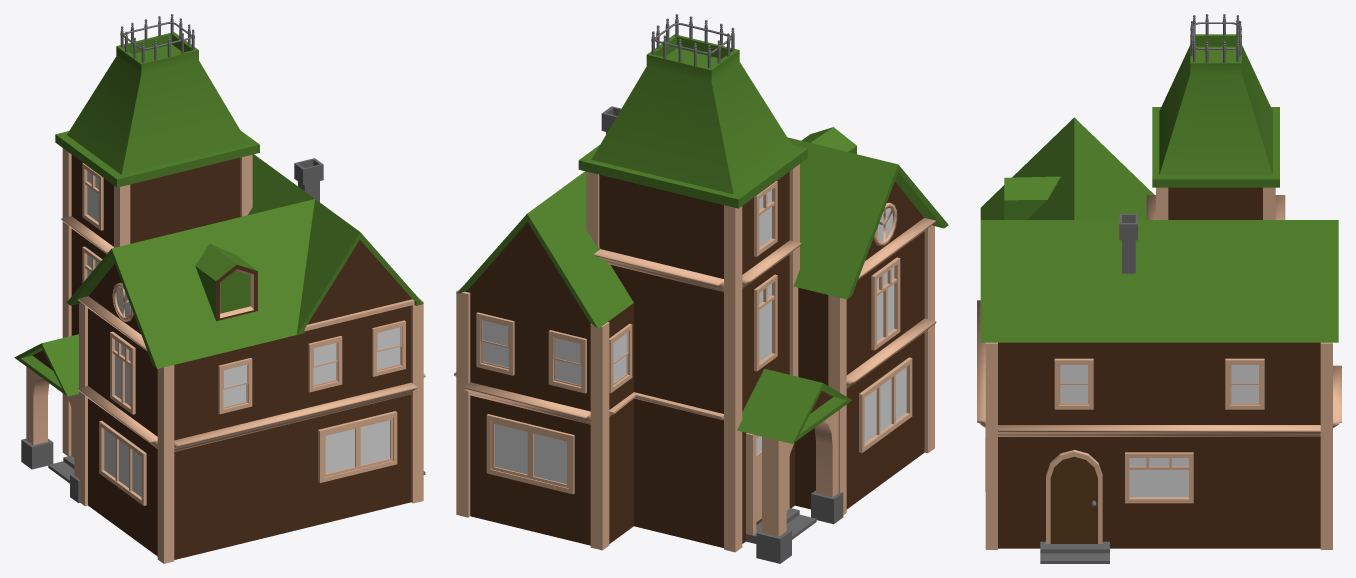
The model's file is house_mats.fbx.
3 renders of one model, left to right at view 1: azimuth 30°, elevation 25°; view 2: azimuth 150°, elevation 25°; view 3: azimuth 270°, elevation 25°, orthographic. The views are drawn at different scales.
Visible parts, largest first — view 1: Cube.077, Cornices, Frames, Glasses, Frames_white, MetalParts; view 2: Cube.077, Cornices, Frames, Glasses, Frames_white, MetalParts, Stone; view 3: Cube.077, Cornices, Frames, Glasses, door.003, Stone, MetalParts, Frames_white.
Part boxes in pixels (x1,y1,x2,y2): Cube.077: (14, 32, 423, 559); Cornices: (61, 148, 425, 563); Frames: (71, 163, 405, 505); Glasses: (87, 171, 400, 497); Frames_white: (223, 326, 401, 477); MetalParts: (120, 14, 194, 62); Cube.077: (456, 34, 948, 563); Cornices: (454, 164, 936, 552); Frames: (476, 181, 912, 535); Glasses: (482, 190, 906, 484); Frames_white: (480, 319, 628, 488); MetalParts: (651, 14, 734, 68); Stone: (746, 508, 816, 543); Cube.077: (980, 34, 1338, 548); Cornices: (977, 187, 1341, 549); Frames: (985, 358, 1264, 543); Glasses: (1060, 365, 1258, 497); door.003: (1050, 456, 1097, 543); Stone: (1040, 541, 1109, 563); MetalParts: (1091, 14, 1241, 506); Frames_white: (1059, 364, 1260, 404).
Bounding box in the file's own units: 470 × 646 × 481.
